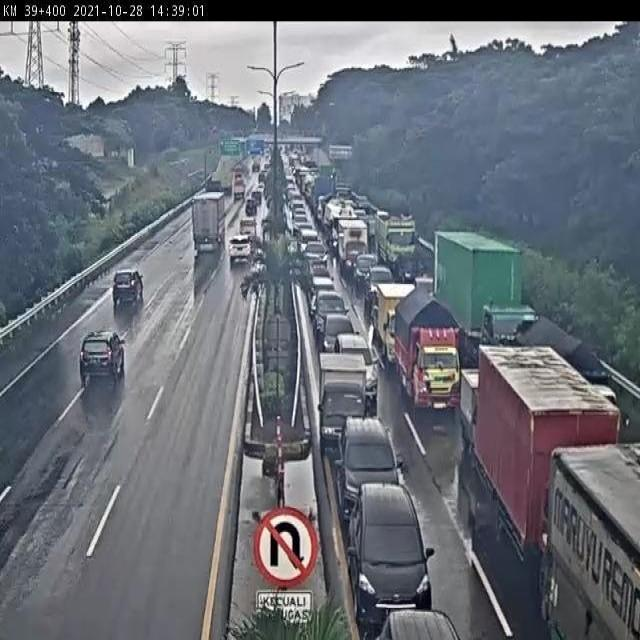Car: (347, 480, 438, 603), (335, 414, 408, 514), (333, 332, 380, 405), (369, 605, 459, 640), (77, 331, 127, 383), (111, 267, 146, 314), (324, 313, 356, 356), (366, 272, 396, 313), (227, 236, 255, 267), (351, 257, 378, 288), (308, 293, 346, 312), (236, 216, 256, 236)
Truck: (476, 343, 640, 640), (435, 231, 537, 364), (387, 295, 461, 414), (316, 351, 372, 462), (376, 208, 421, 268), (190, 189, 225, 254)
